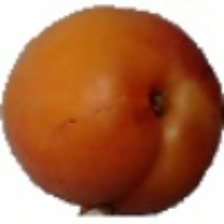apricot: (41, 50, 196, 209)
